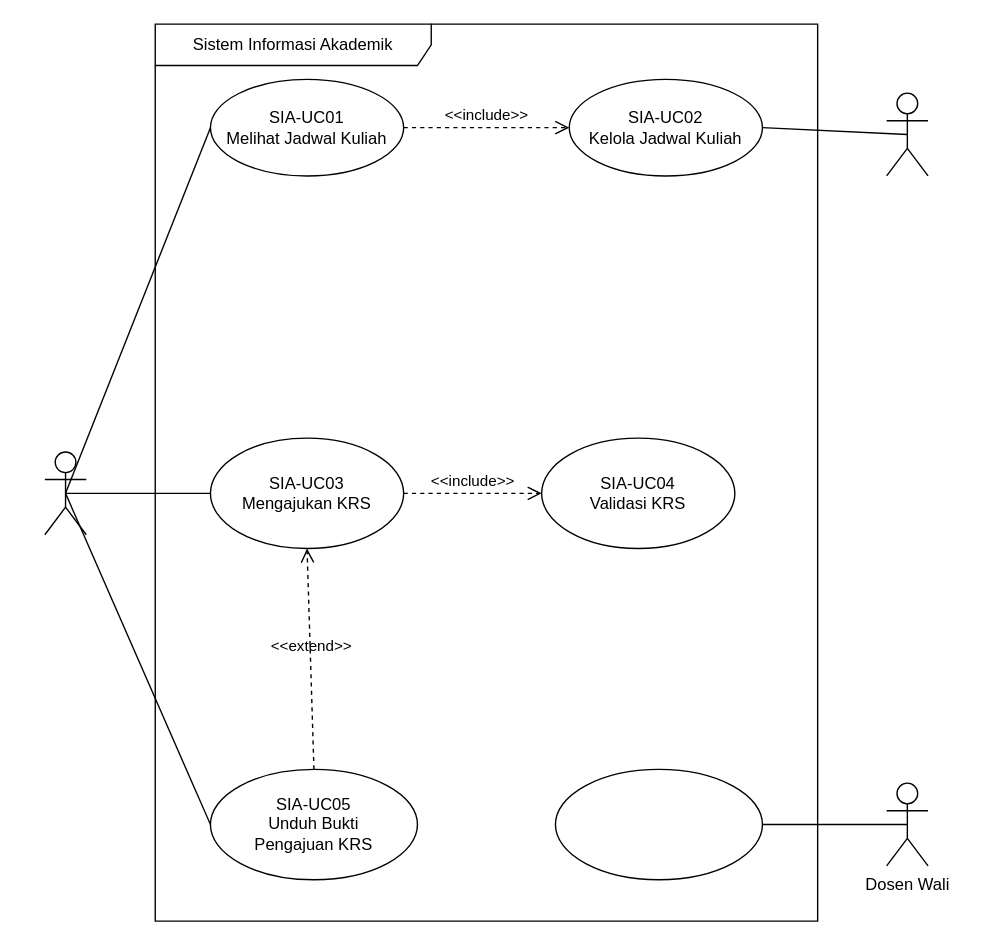
This 992x945 diagram has some shape labels left out. Here are the shapes that lost their labels. From the top down, the centre of each, then its label:
At [906,134]: "Admin Akademik".
At [64,493]: "Mahasiswa".
At [658,824]: "SIA-UC06 Proses Keputusan KRS".
